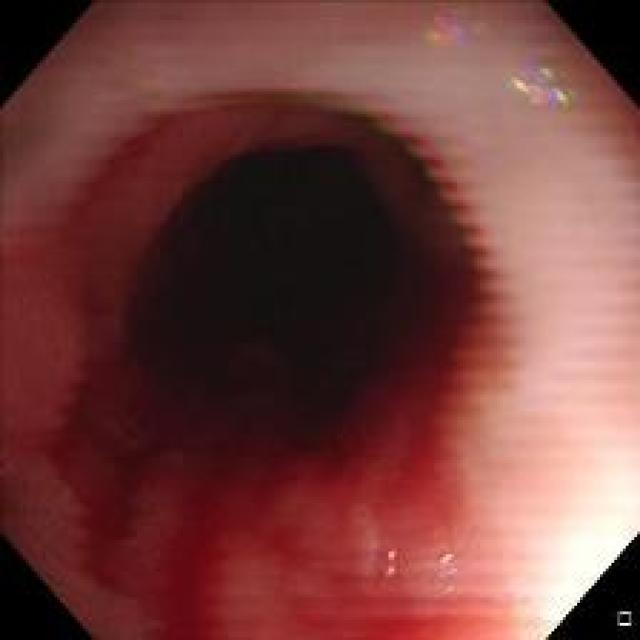color misalignment: (368, 108, 495, 279), (182, 81, 369, 131), (499, 54, 580, 122), (431, 8, 480, 56), (364, 534, 405, 580), (429, 544, 459, 592)
contrast: (139, 141, 444, 464)
saturation: (490, 450, 636, 636)
